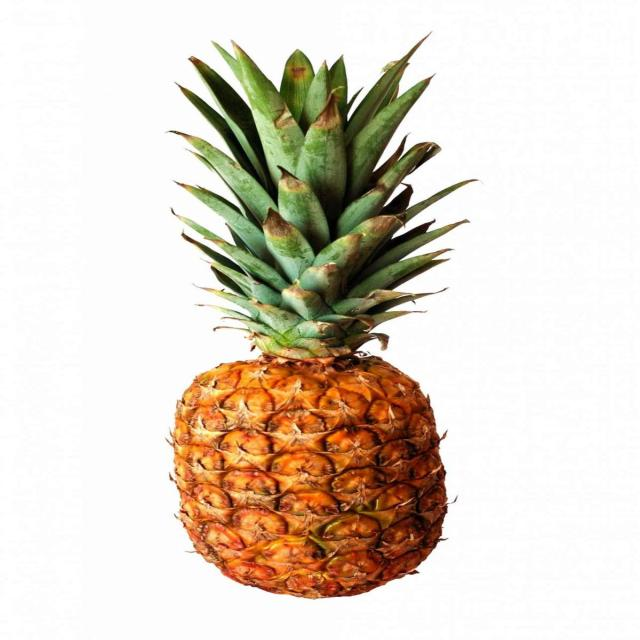Pineapple: (162, 35, 469, 595)
